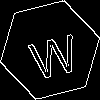W: (25, 25, 82, 81)
